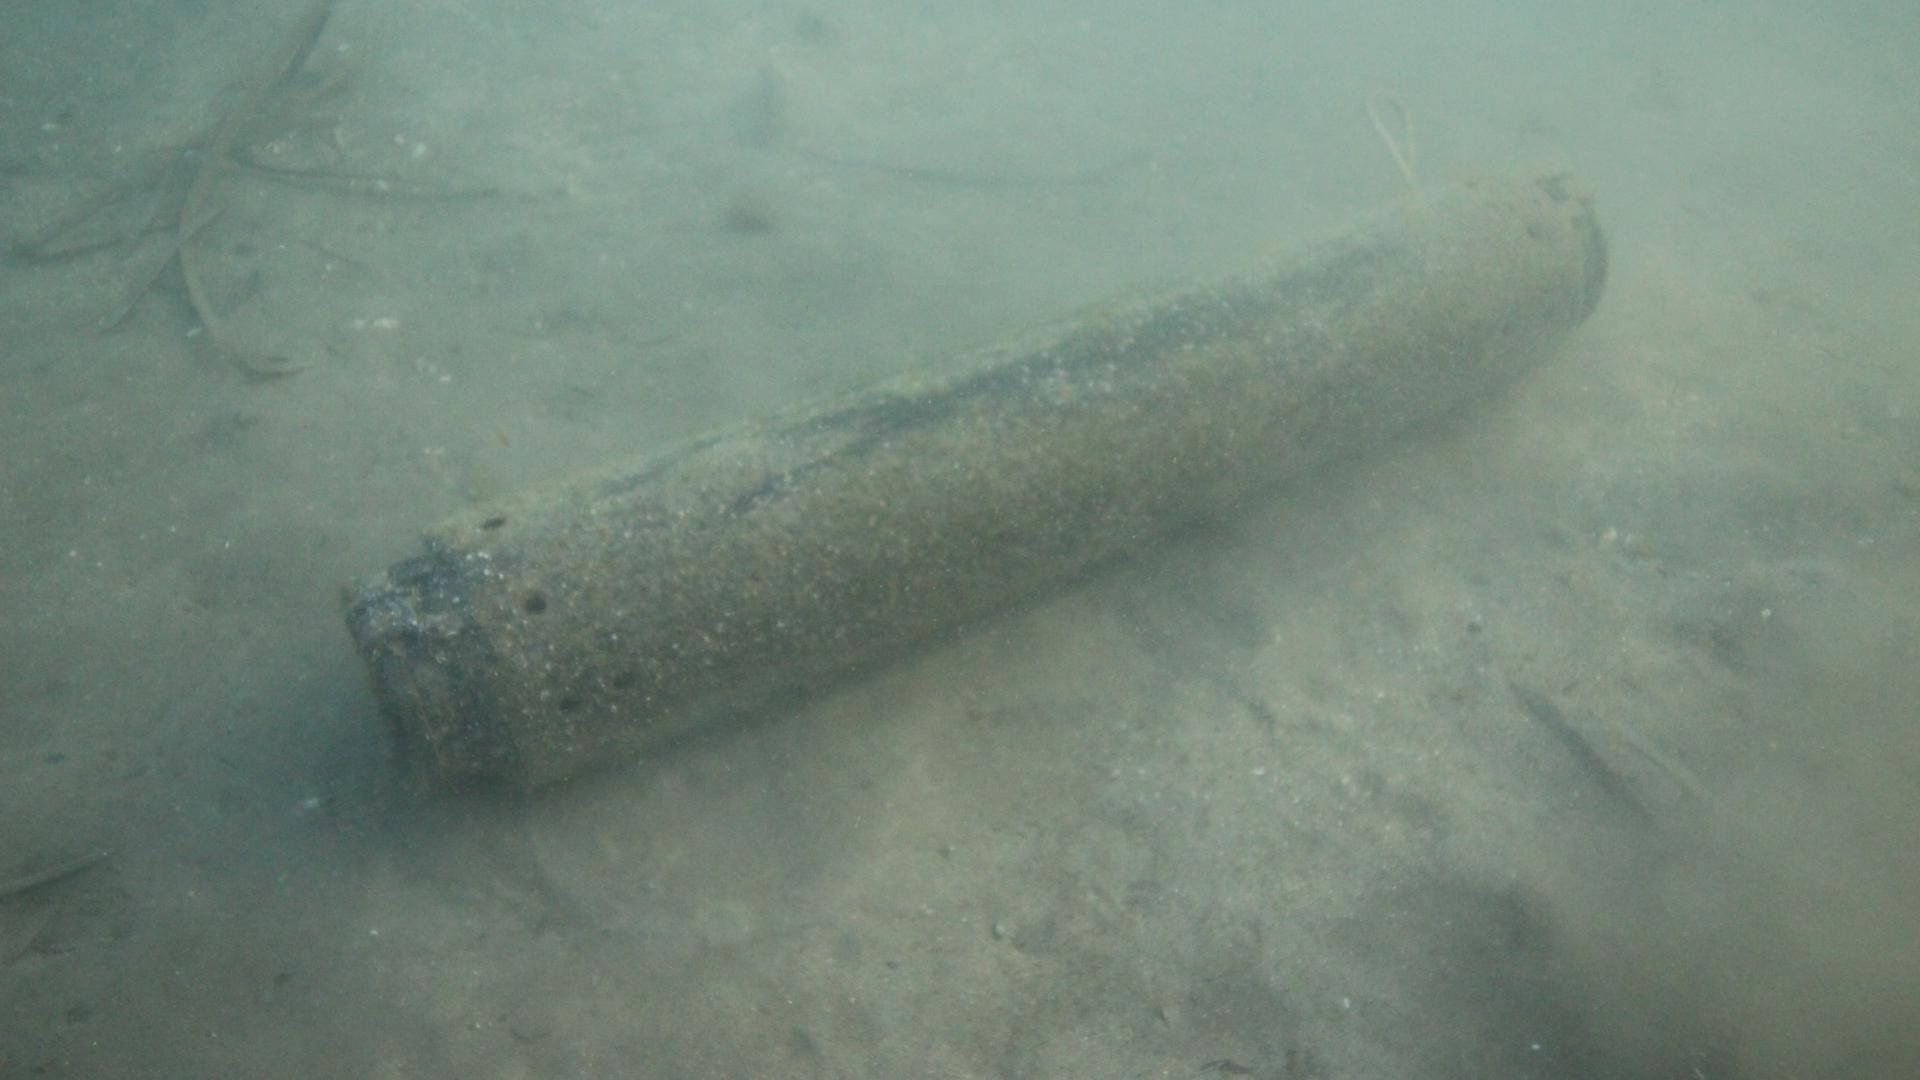eel fish trap: (338, 166, 1611, 814)
rope: (1360, 86, 1420, 193)
